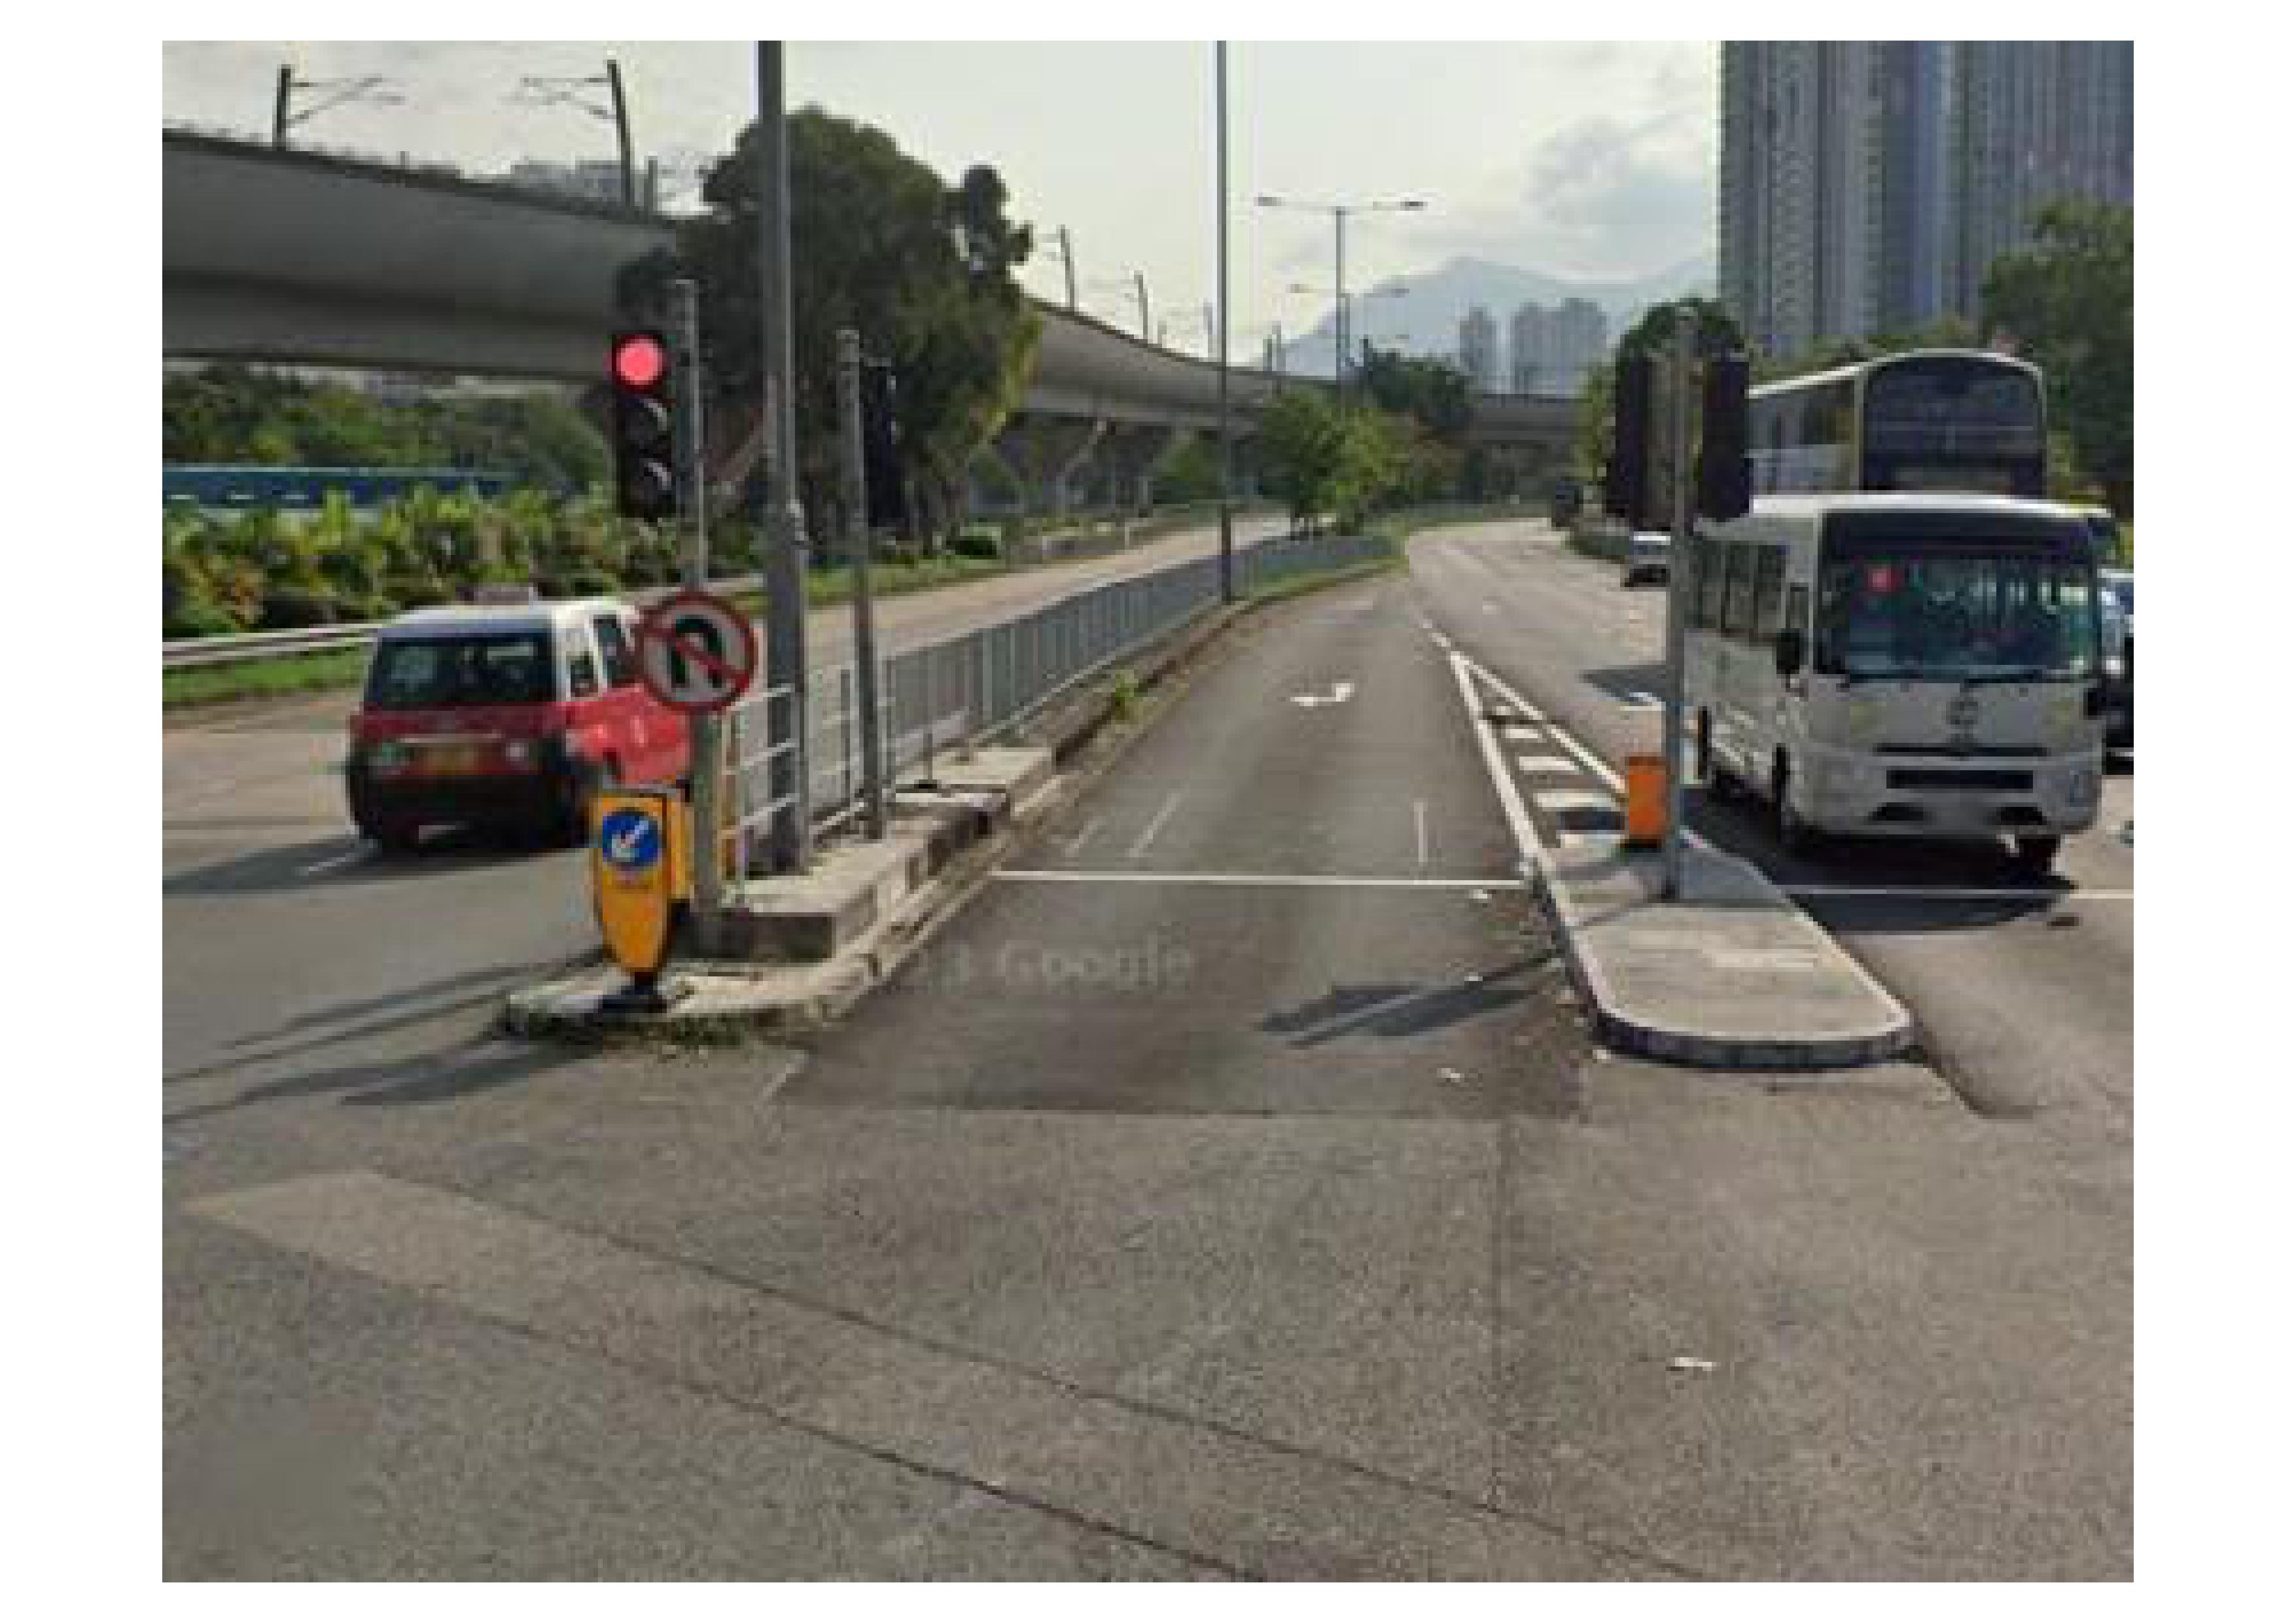No Uturn: (614, 588, 771, 718)
